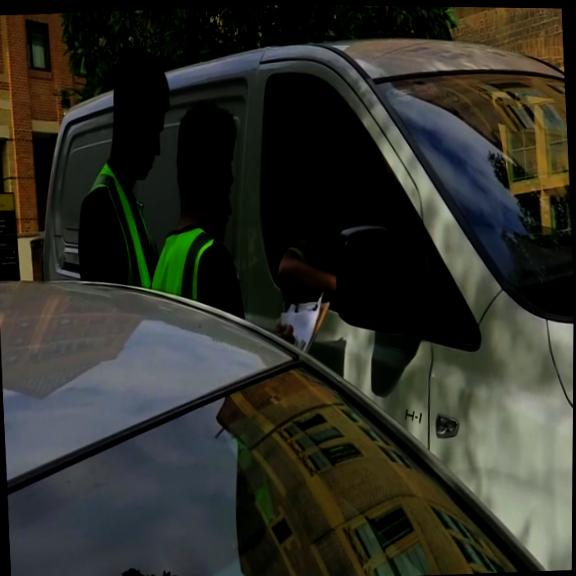safety_vest: (75, 162, 154, 294), (147, 220, 242, 311)
